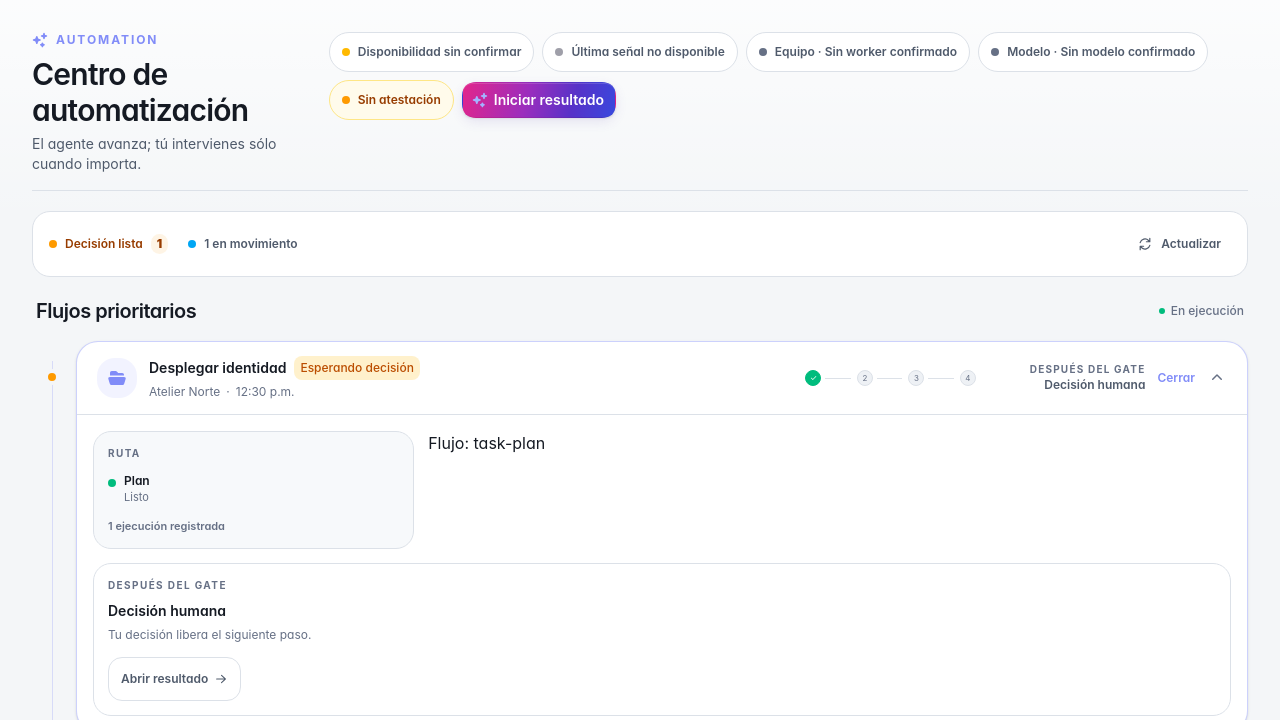
AutomationPage › keeps the portfolio compact when the active result is collapsed
This screenshot has width=1280, height=720.
Click the button with aria-label "Cerrar flujo de Desplegar identidad": (117, 378) x1=77 y1=342 x2=1247 y2=414
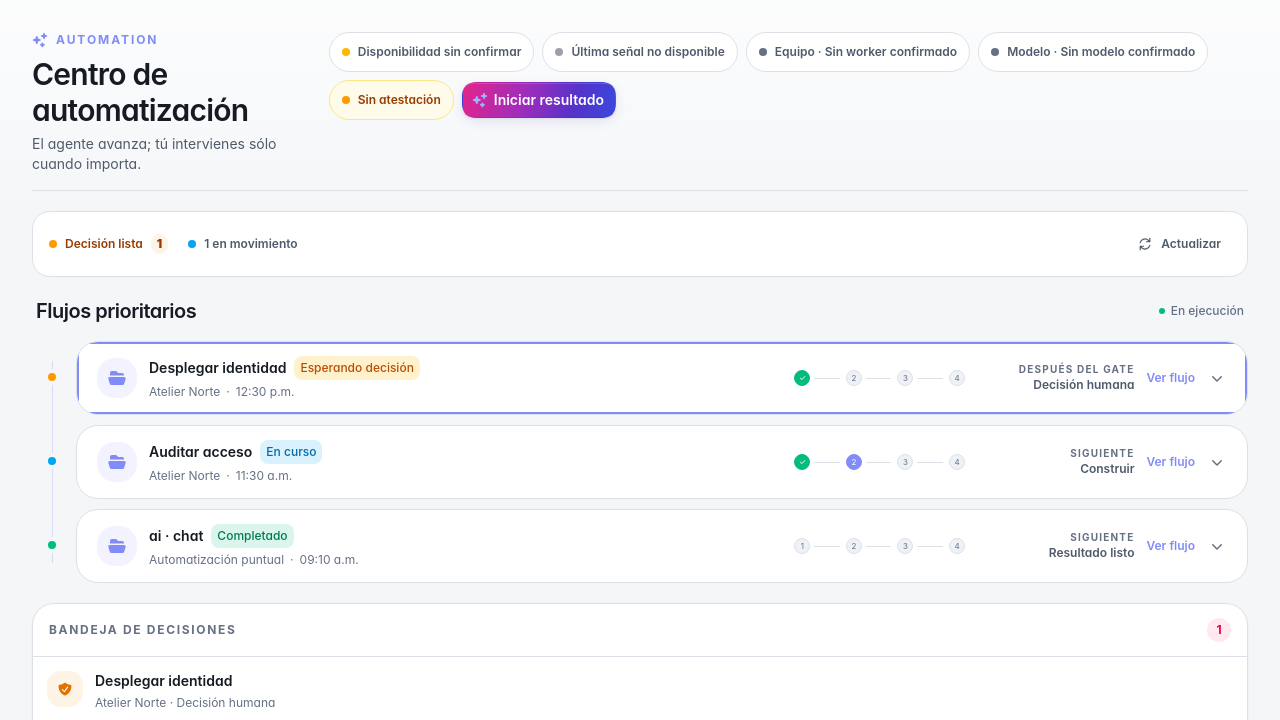
Now the button named "Cerrar flujo de Desplegar identidad" is collapsed
Now the text with test id "execution-graph" is gone
Click the button named "Cerrar flujo de Desplegar identidad": (117, 378) x1=77 y1=342 x2=1247 y2=414
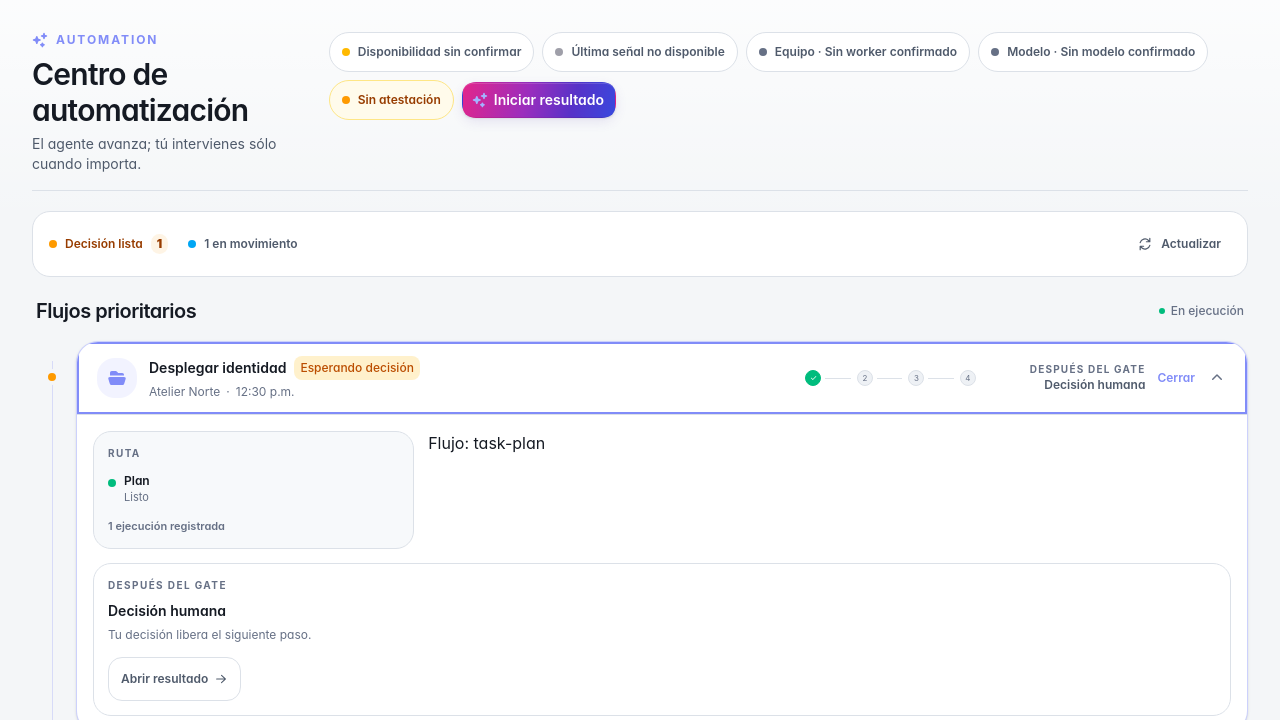
Now the text with test id "execution-graph" shows "task-plan", box x1=474 y1=433 x2=545 y2=453
